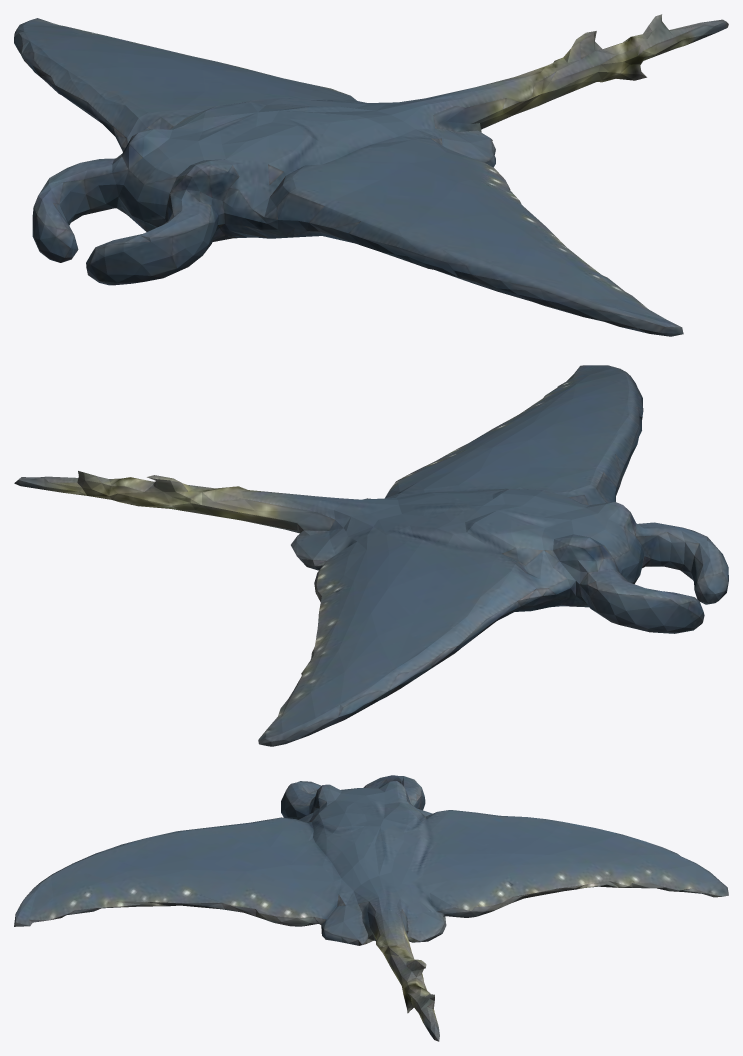
Rendered from foe_stormRay.glb.
The picture shows the model from 3 angles, top to bottom: view 1: azimuth 30°, elevation 25°; view 2: azimuth 150°, elevation 25°; view 3: azimuth 270°, elevation 25°; orthographic projection. The views are drawn at different scales.
Parts seen in each view (by area): view 1: tripo_node_50430948-cb5b-4862-8b45-b43c7d536849.001; view 2: tripo_node_50430948-cb5b-4862-8b45-b43c7d536849.001; view 3: tripo_node_50430948-cb5b-4862-8b45-b43c7d536849.001.
Part boxes in pixels (bbox=[...]): tripo_node_50430948-cb5b-4862-8b45-b43c7d536849.001: bbox=[14, 14, 728, 336]; tripo_node_50430948-cb5b-4862-8b45-b43c7d536849.001: bbox=[14, 365, 728, 746]; tripo_node_50430948-cb5b-4862-8b45-b43c7d536849.001: bbox=[14, 775, 728, 1041].
Bounding box in the file's own units: 0.8389 × 0.1081 × 0.9932.
1 material, 1 textured.
